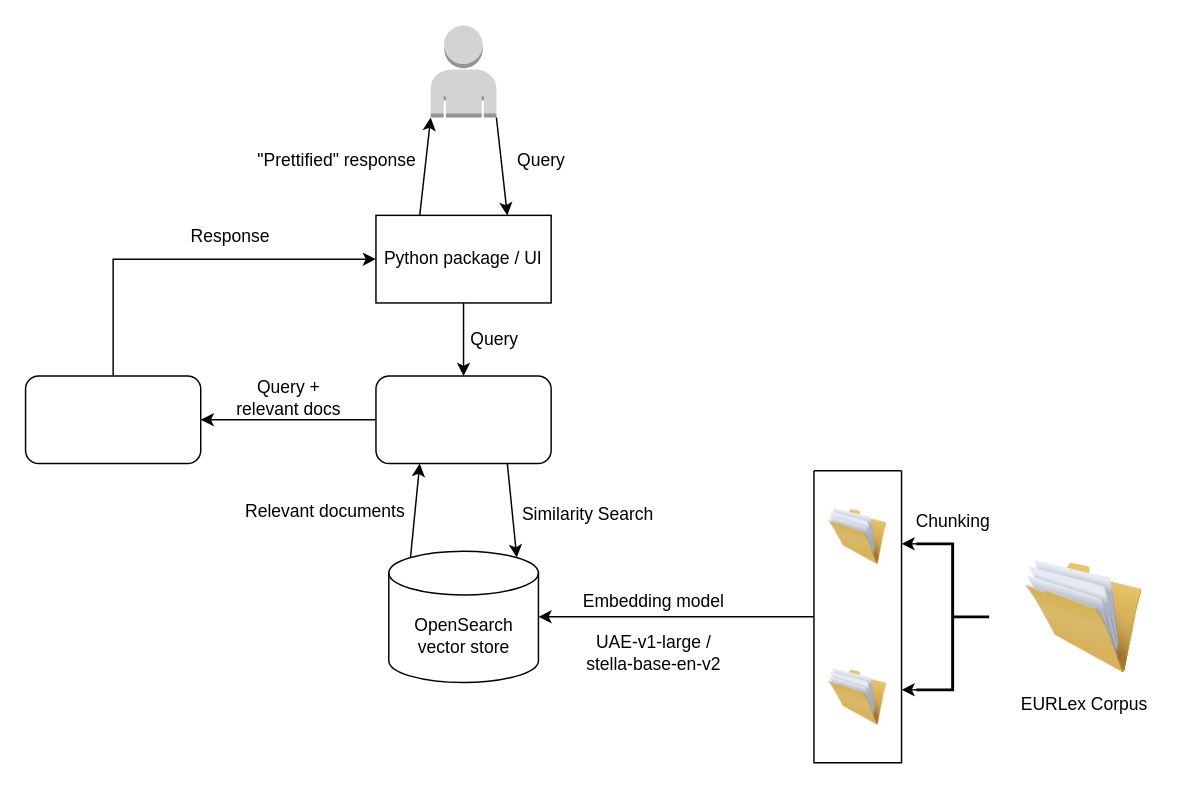
Some shapes in this 1190 by 788 pixel diagram are drawn without their labels. Each missing label, with the box of its shape:
BM25 Retriever: (374, 374, 551, 464)
Pre-trained LLM (Llama2-7b-chat-en): (24, 374, 201, 464)
